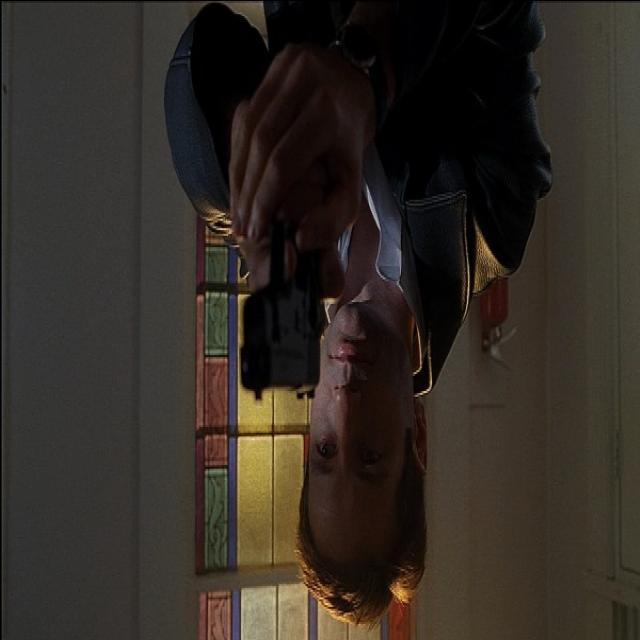weapons: (213, 140, 339, 424)
